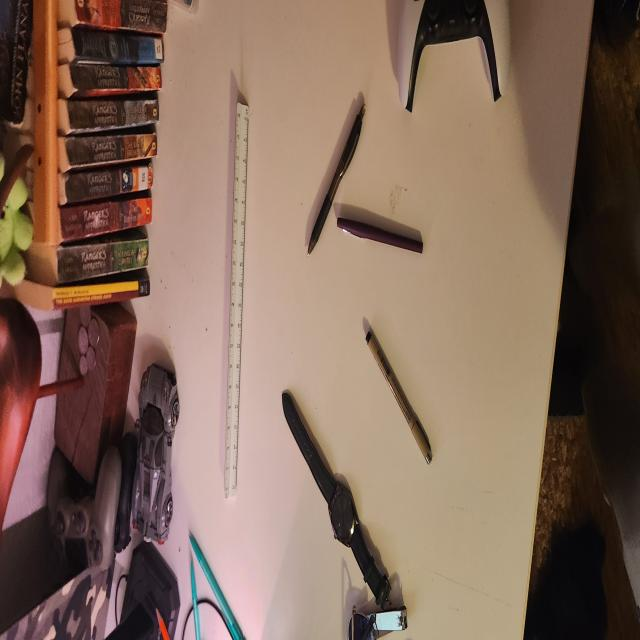Controller: (399, 0, 504, 107)
Pen: (362, 319, 434, 465), (306, 95, 367, 257), (333, 202, 424, 255)
Watch: (281, 393, 400, 615)
